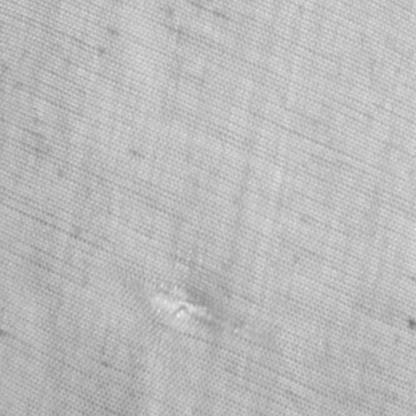thread error: (130, 266, 226, 342)
